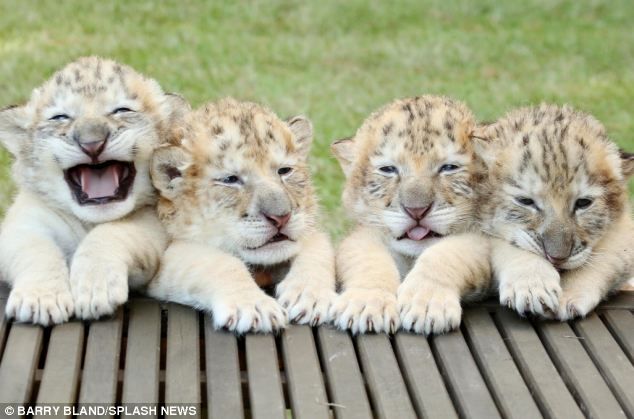Tigrew: (8, 45, 173, 320), (314, 73, 482, 337), (149, 89, 333, 330), (474, 88, 614, 318)
